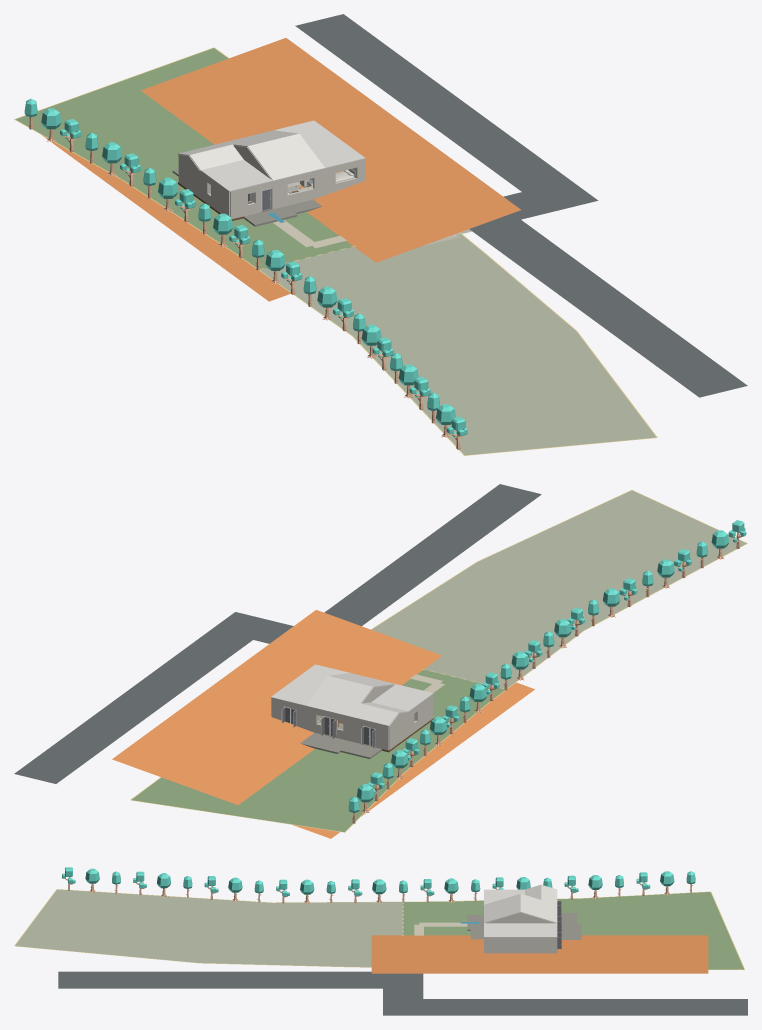
The model's file is model-site-r06.glb.
3 views of the same model, one above another, from view 1: azimuth 30°, elevation 25°; view 2: azimuth 150°, elevation 25°; view 3: azimuth 270°, elevation 25° (orthographic). The views are drawn at different scales.
Visible parts, largest first — view 1: HS_partner_portion, HS_slope_grid, HS_road_5m, HS_our_portion, living-kitchen/vault-front, east-wing-flat-ceiling, services-flat-ceiling, ext-left/pier-0, primary/vault-front; view 2: HS_partner_portion, HS_slope_grid, HS_road_5m, HS_our_portion, living-kitchen/vault-rear, east-wing-flat-ceiling, services-flat-ceiling, ground/slab/3, primary/vault-rear, ext-left/pier-0; view 3: HS_partner_portion, HS_road_5m, HS_slope_grid, HS_our_portion, ext-right/end, east-wing-flat-ceiling, living-kitchen/vault-rear, living-kitchen/vault-front, living-kitchen/gable-right, services-flat-ceiling, ground/slab/3, ground/slab/1 (+1 smaller).
Boxes of the visible parts, x1,y1,x2,y2 form: HS_partner_portion: (260,234,656,455); HS_slope_grid: (42,38,520,301); HS_road_5m: (295,14,747,397); HS_our_portion: (15,48,352,268); living-kitchen/vault-front: (247,133,325,181); east-wing-flat-ceiling: (274,120,365,168); services-flat-ceiling: (200,160,272,191); ext-left/pier-0: (178,156,209,203); primary/vault-front: (189,144,243,170); HS_partner_portion: (372,490,746,688); HS_slope_grid: (112,610,534,838); HS_road_5m: (14,484,541,783); HS_our_portion: (131,669,504,832); living-kitchen/vault-rear: (306,676,373,717); east-wing-flat-ceiling: (270,664,349,706); services-flat-ceiling: (371,684,433,711); ground/slab/3: (303,732,381,758); primary/vault-rear: (351,703,398,726); ext-left/pier-0: (388,708,414,750); HS_partner_portion: (15,889,402,967); HS_road_5m: (58,971,747,1015); HS_slope_grid: (371,935,708,973); HS_our_portion: (403,892,744,969); ext-right/end: (484,937,556,953); east-wing-flat-ceiling: (484,923,557,937); living-kitchen/vault-rear: (520,894,557,922); living-kitchen/vault-front: (484,894,520,922); living-kitchen/gable-right: (486,912,555,923); services-flat-ceiling: (484,889,524,904); ground/slab/3: (561,913,576,939); ground/slab/1: (470,915,483,939).
Size of the model in its own units: 38.02 by 5.81 by 91.52.
Materials: 206 (2 with a texture image).
